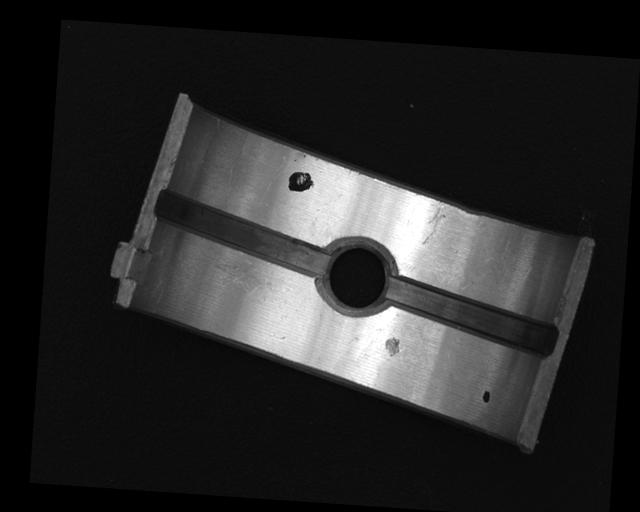blot: (285, 170, 314, 194), (480, 390, 492, 403)
bruise: (384, 336, 400, 359)
gap: (151, 191, 332, 278), (382, 281, 561, 357)
hole: (315, 237, 396, 319)
nick: (421, 201, 446, 247)
scratch: (186, 246, 267, 298)
